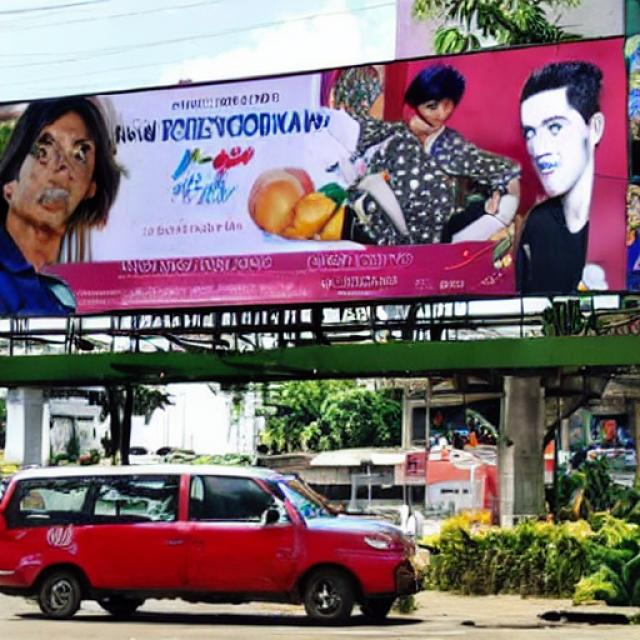Billboard: (0, 36, 629, 311)
